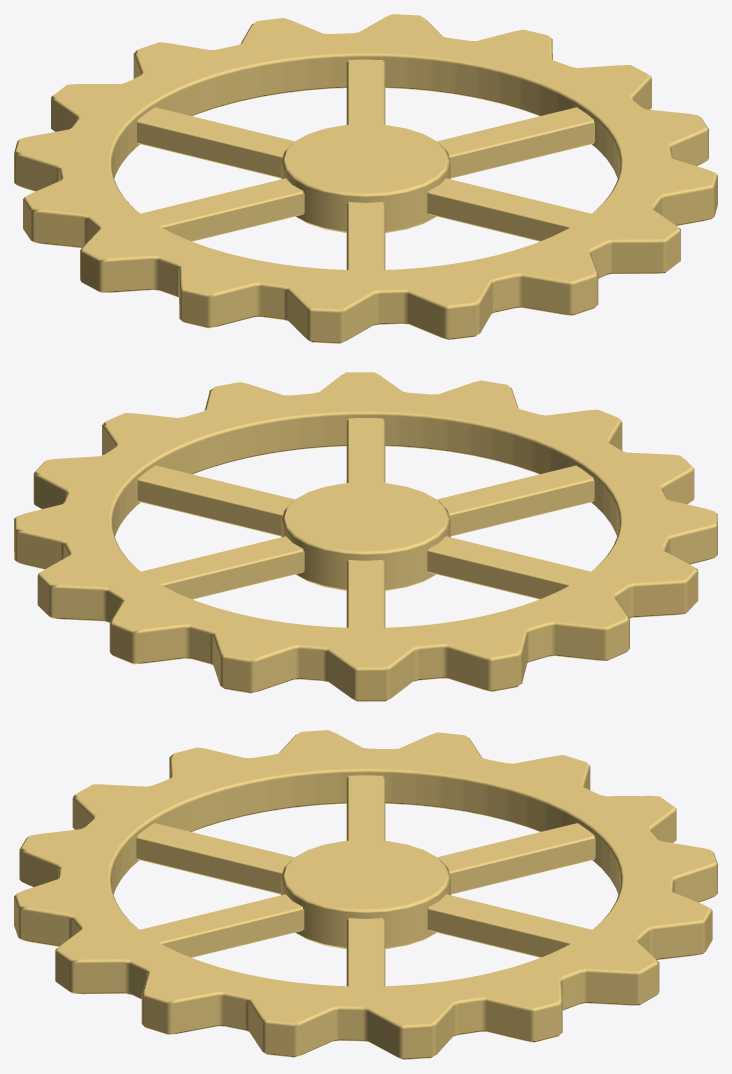
Rendered from boss_gear_large.glb.
3 renders of one model, top to bottom at view 1: azimuth 30°, elevation 25°; view 2: azimuth 150°, elevation 25°; view 3: azimuth 270°, elevation 25°, orthographic.
Visible parts, largest first — view 1: GearLarge, GearLarge_Hub; view 2: GearLarge, GearLarge_Hub; view 3: GearLarge, GearLarge_Hub.
Part boxes in pixels (x1=…): GearLarge: x1=14, y1=14, x2=717, y2=343; GearLarge_Hub: x1=281, y1=124, x2=450, y2=232; GearLarge: x1=14, y1=372, x2=717, y2=701; GearLarge_Hub: x1=281, y1=482, x2=450, y2=590; GearLarge: x1=14, y1=730, x2=717, y2=1059; GearLarge_Hub: x1=281, y1=839, x2=450, y2=948.
Size of the model in its own units: 6.56 by 0.4248 by 6.56.
